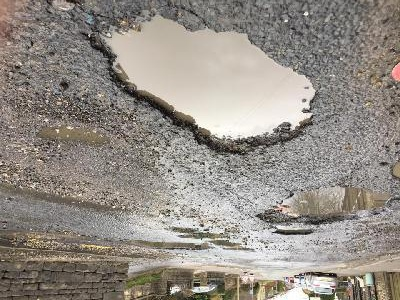pothole: (84, 10, 321, 159), (252, 185, 393, 226), (32, 121, 111, 148), (269, 226, 314, 238), (390, 159, 400, 180)
